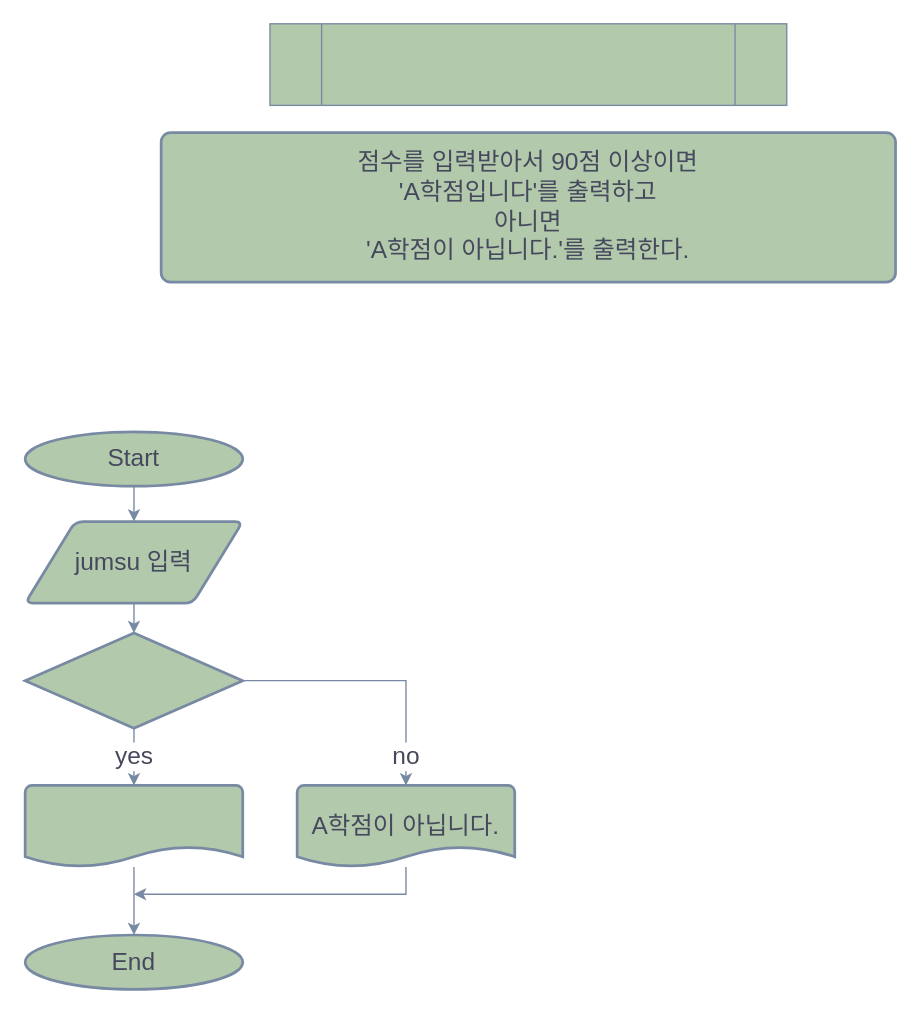
Image size: 919x1015. Some labels were removed from this diagram. The shapes that lost their labels are listed below. From the top down, each one's centre as x and y in pixels, then its label:
At (528,63): "if statement".
At (133,680): "jumsu >= 90".
At (133,825): "A학점입니다.".
